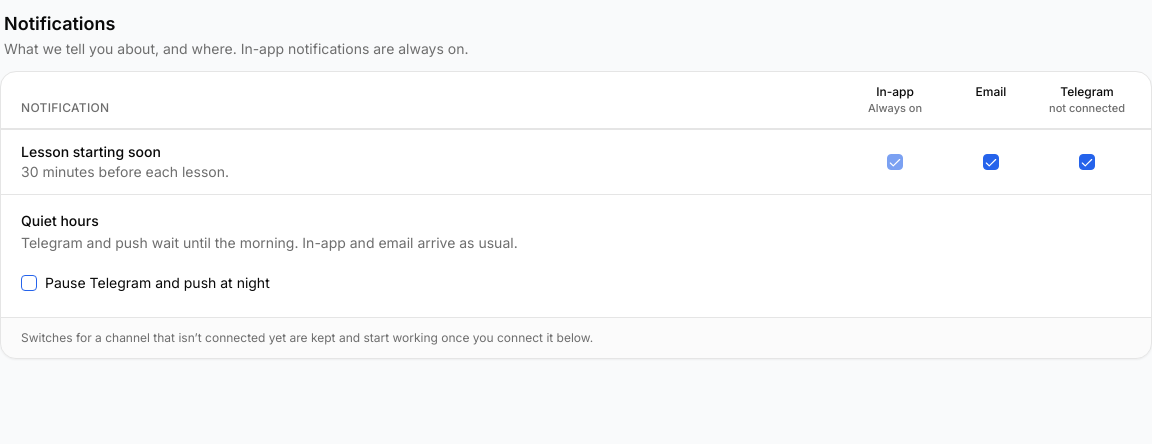
Test: Notifications: per event × channel › quiet hours start off and save when switched on
This screenshot has width=1152, height=444.
Click the 4th checkbox at (29, 282), box [21, 274, 37, 290]
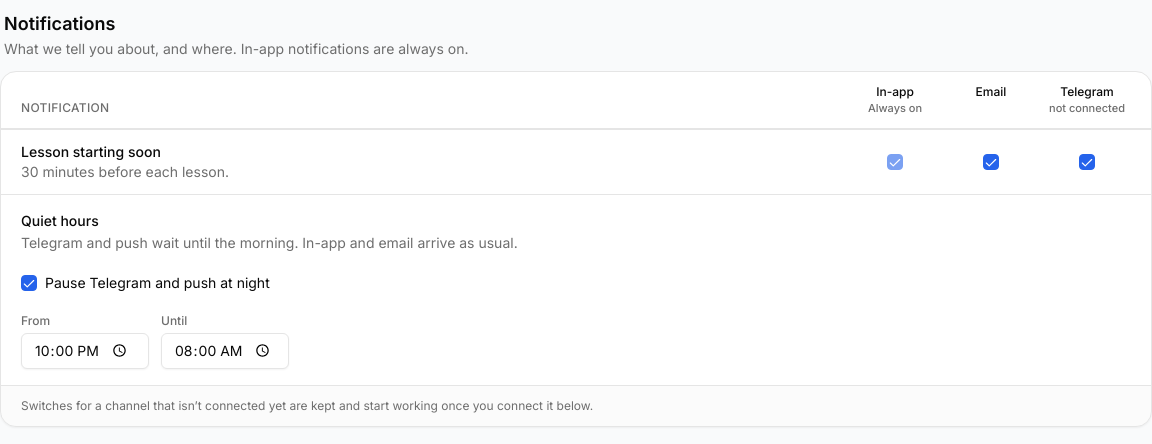
Expected: the time field labelled "From" is shown, [21, 332, 149, 368]
